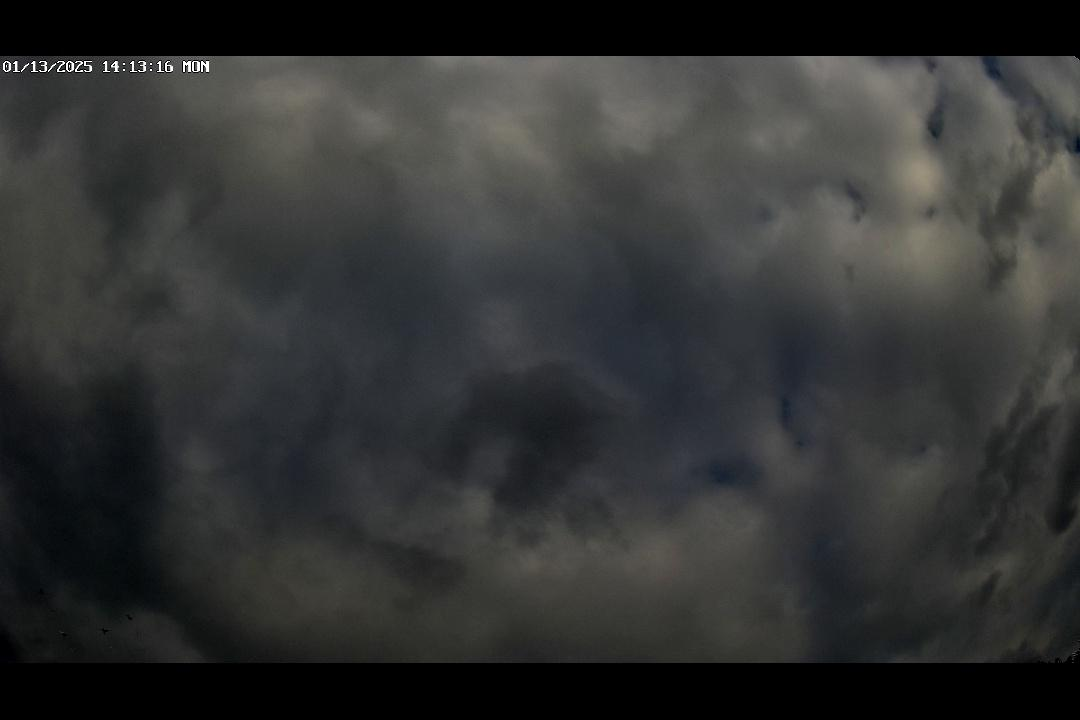WildLife: (54, 623, 73, 643), (34, 578, 51, 598), (89, 626, 115, 636), (43, 606, 65, 617), (126, 610, 136, 621)
